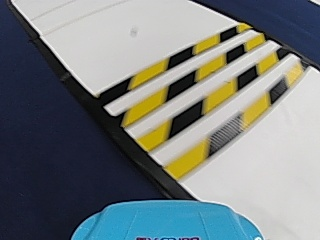bump: (113, 31, 263, 146)
